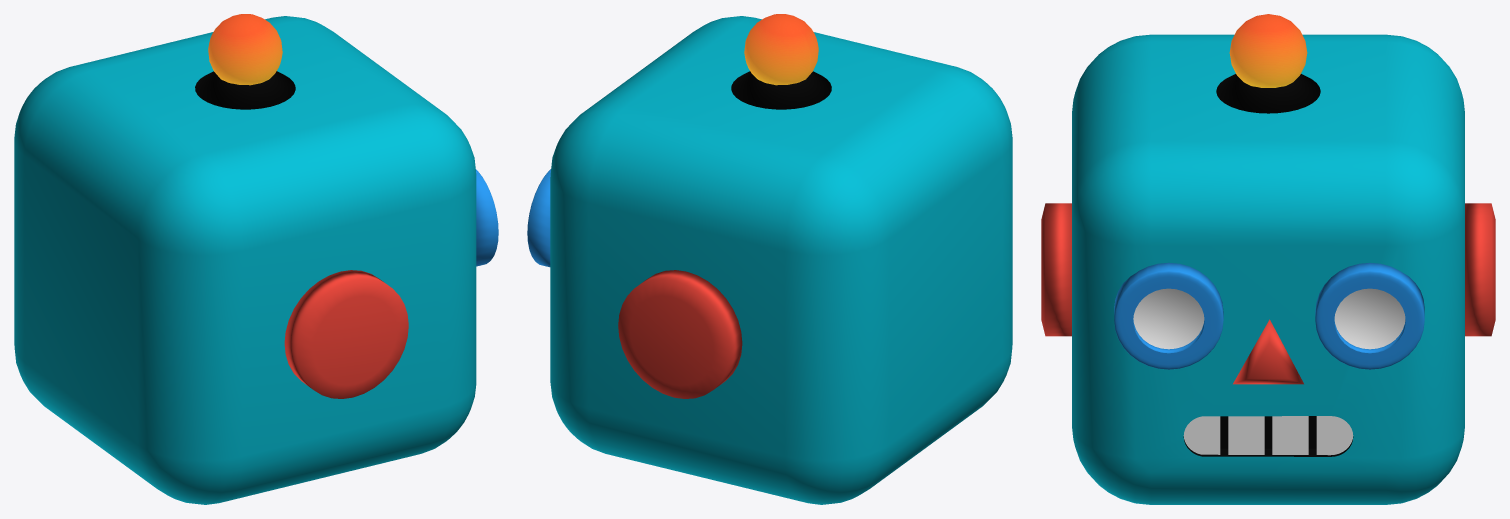
Rendered from robot_emoji.glb.
3 renders of one model, left to right at view 1: azimuth 30°, elevation 25°; view 2: azimuth 150°, elevation 25°; view 3: azimuth 270°, elevation 25°, orthographic. The views are drawn at different scales.
Visible parts, largest first — view 1: Cube_4, Cylinder.001_11, Icosphere_12, Cone_3, Circle_1; view 2: Cube_4, Cylinder_10, Icosphere_12, Cone_3, Circle.001_2; view 3: Cube_4, Circle.001_2, Circle_1, Icosphere_12, Cylinder_10, Cylinder.001_11, Cone_3, Plane_13, Cube.002_6, Cube.004_7, Cube.001_5, Cube.006_9 (+1 smaller).
Part boxes in pixels (x1,y1,x2,y2): Cube_4: [14, 16, 476, 504]; Cylinder.001_11: [284, 270, 408, 398]; Icosphere_12: [208, 14, 282, 85]; Cone_3: [195, 71, 295, 109]; Circle_1: [475, 169, 498, 266]; Cube_4: [550, 16, 1012, 504]; Cylinder_10: [618, 270, 742, 398]; Icosphere_12: [744, 14, 818, 85]; Cone_3: [731, 71, 831, 109]; Circle.001_2: [527, 169, 550, 267]; Cube_4: [1072, 34, 1464, 504]; Circle.001_2: [1315, 262, 1424, 369]; Circle_1: [1114, 262, 1223, 369]; Icosphere_12: [1229, 14, 1307, 87]; Cylinder_10: [1465, 203, 1495, 336]; Cylinder.001_11: [1041, 203, 1071, 336]; Cone_3: [1216, 74, 1320, 113]; Plane_13: [1233, 319, 1303, 384]; Cube.002_6: [1272, 416, 1308, 454]; Cube.004_7: [1228, 416, 1264, 454]; Cube.001_5: [1183, 416, 1353, 456]; Cube.006_9: [1316, 416, 1353, 455].
Size of the model in its own units: 4.3 by 4.96 by 4.74.
Materials: 2 (2 with a texture image).
